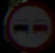No overtake: (4, 4, 51, 44)
